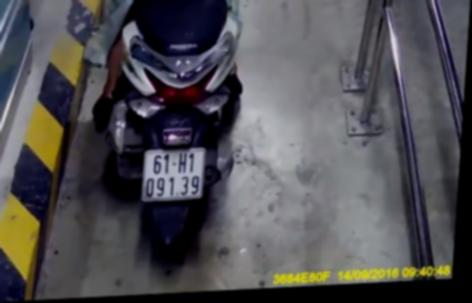License_Plate: (133, 142, 210, 207)
